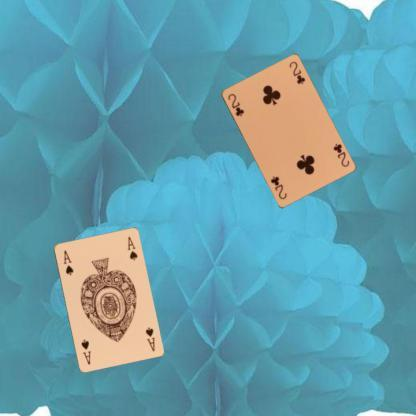2c: (225, 90, 245, 118), (330, 141, 350, 168)
As: (142, 324, 156, 353), (61, 247, 74, 276)
